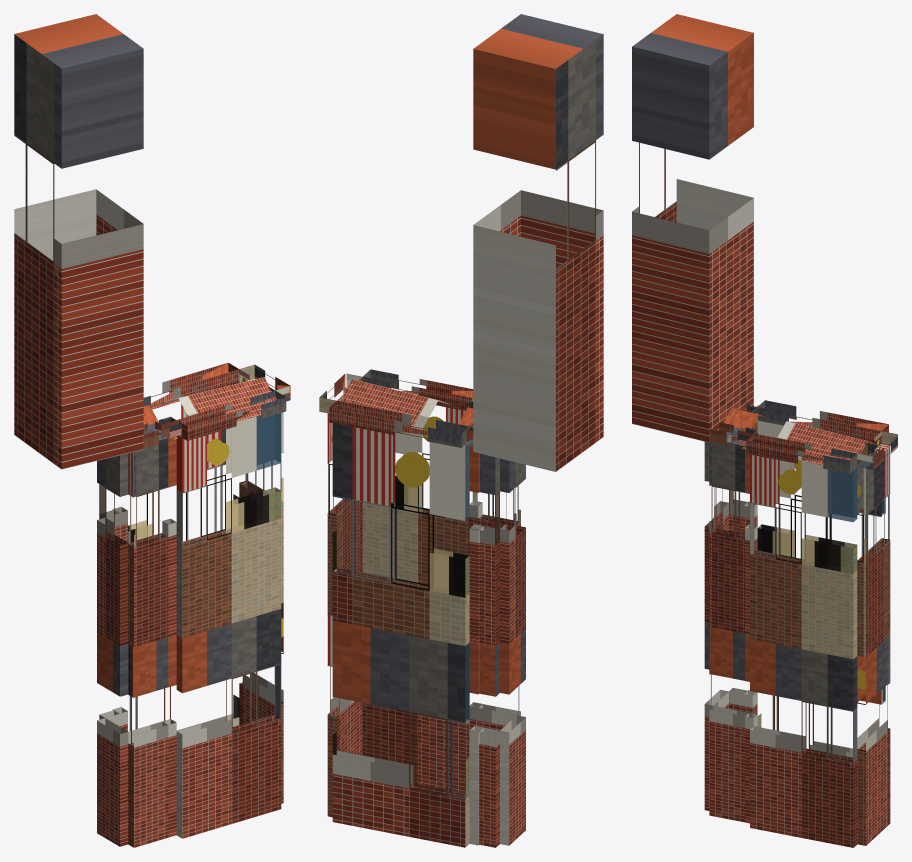
3 views of the same model, side by side, from view 1: azimuth 30°, elevation 25°; view 2: azimuth 150°, elevation 25°; view 3: azimuth 330°, elevation 25° (orthographic). The views are drawn at different scales.
Visible parts, largest first — view 1: 397363859__chimney_0_xb, 397363859__wall_4_xb, 397363859__wall_6_xb, 397363859__wall_7_xb, 397363859__wall_5_xb, 397363859__wall_4_xf, 397363859__wall_3_xb, 397363859_roof_-1_xb, 397363859__cornice_4, 397363859__cornice_2, 397363859__wall_2_xb, 397363859__wall_0_xb (+1 smaller); view 2: 397363859__chimney_0_xb, 397363859__wall_2_xb, 397363859__wall_4_xb, 397363859__wall_7_xb, 397363859__wall_0_xb, 397363859__wall_3_xb, 397363859__wall_1_xb, 397363859__cornice_2, 397363859__wall_2_xf, 397363859_roof_1_xb, 397363859__wall_6_xb, 397363859__cornice_4 (+2 smaller); view 3: 397363859__chimney_0_xb, 397363859__wall_4_xb, 397363859__wall_6_xb, 397363859__wall_3_xb, 397363859__wall_2_xb, 397363859__wall_4_xf, 397363859__wall_7_xb, 397363859_roof_-1_xb, 397363859__cornice_2, 397363859__cornice_4, 397363859__wall_5_xb, 397363859__wall_0_xb (+3 smaller).
Boxes of the visible parts, x1,y1,x2,y2 form: 397363859__chimney_0_xb: [14, 14, 143, 469]; 397363859__wall_4_xb: [176, 413, 281, 838]; 397363859__wall_6_xb: [128, 437, 175, 847]; 397363859__wall_7_xb: [97, 453, 128, 846]; 397363859__wall_5_xb: [162, 436, 176, 837]; 397363859__wall_4_xf: [226, 413, 280, 532]; 397363859__wall_3_xb: [239, 381, 283, 803]; 397363859_roof_-1_xb: [143, 377, 276, 440]; 397363859__cornice_4: [177, 390, 286, 440]; 397363859__cornice_2: [143, 362, 239, 409]; 397363859__wall_2_xb: [121, 404, 239, 730]; 397363859__wall_0_xb: [99, 484, 127, 731]; 397363859__chimney_0_xb: [473, 14, 603, 471]; 397363859__wall_2_xb: [332, 423, 469, 847]; 397363859__wall_4_xb: [362, 407, 477, 793]; 397363859__wall_7_xb: [500, 458, 525, 845]; 397363859__wall_0_xb: [470, 453, 499, 847]; 397363859__wall_3_xb: [327, 413, 362, 817]; 397363859__wall_1_xb: [469, 446, 483, 845]; 397363859__cornice_2: [329, 400, 468, 447]; 397363859__wall_2_xf: [333, 445, 469, 798]; 397363859_roof_1_xb: [341, 379, 473, 446]; 397363859__wall_6_xb: [469, 486, 520, 756]; 397363859__cornice_4: [362, 369, 473, 410]; 397363859__chimney_0_xb: [632, 14, 753, 442]; 397363859__wall_4_xb: [750, 454, 857, 847]; 397363859__wall_6_xb: [709, 442, 749, 822]; 397363859__wall_3_xb: [857, 444, 890, 845]; 397363859__wall_2_xb: [757, 420, 885, 757]; 397363859__wall_4_xf: [802, 468, 856, 573]; 397363859__wall_7_xb: [704, 441, 728, 810]; 397363859_roof_-1_xb: [723, 408, 867, 465]; 397363859__cornice_2: [757, 400, 888, 444]; 397363859__cornice_4: [746, 433, 857, 473]; 397363859__wall_5_xb: [745, 446, 757, 823]; 397363859__wall_0_xb: [729, 427, 756, 713].
Size of the model in its own units: 0.4439 by 1.4 by 0.1755.
1 material, 1 textured.
